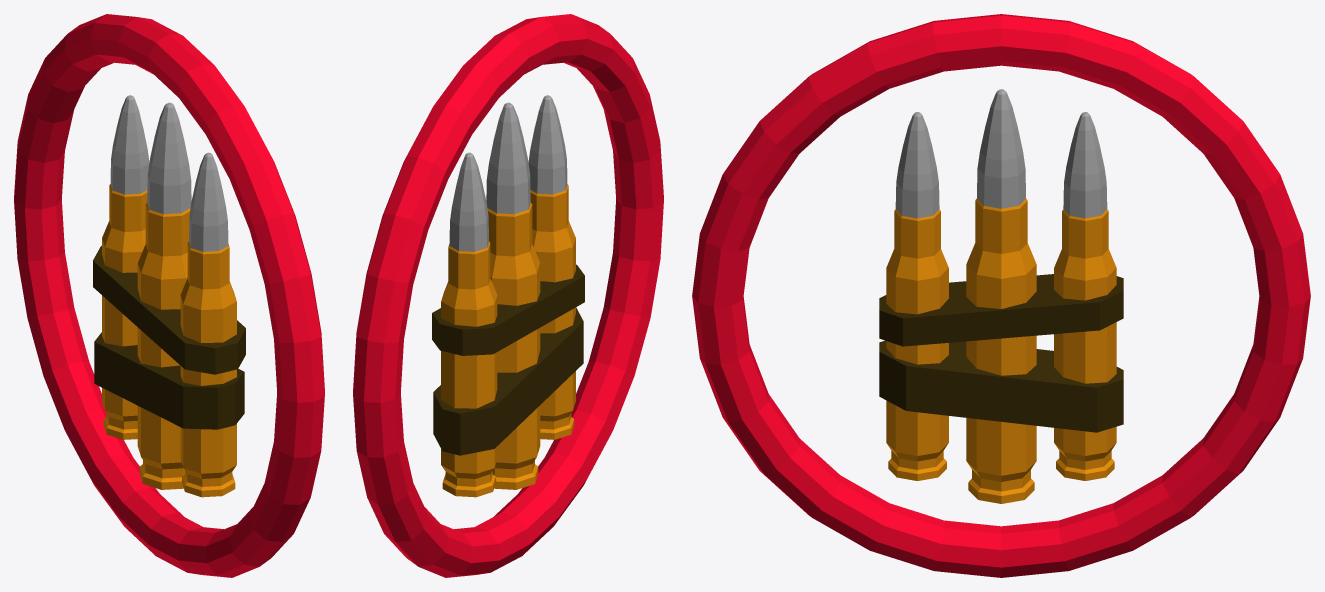
File: Bullets_Pickup.fbx
The picture shows the model from 3 angles, left to right: view 1: azimuth 30°, elevation 25°; view 2: azimuth 150°, elevation 25°; view 3: azimuth 270°, elevation 25°; orthographic projection. The views are drawn at different scales.
Parts seen in each view (by area): view 1: Torus.001, Cube.008; view 2: Torus.001, Cube.008; view 3: Torus.001, Cube.008.
Part boxes in pixels (<box>): Torus.001: <box>14,14,324,577</box>; Cube.008: <box>93,95,245,497</box>; Torus.001: <box>353,14,663,577</box>; Cube.008: <box>432,95,584,497</box>; Torus.001: <box>692,14,1310,577</box>; Cube.008: <box>879,89,1123,503</box>.
Size of the model in its own units: 18.98 by 155 by 155.
